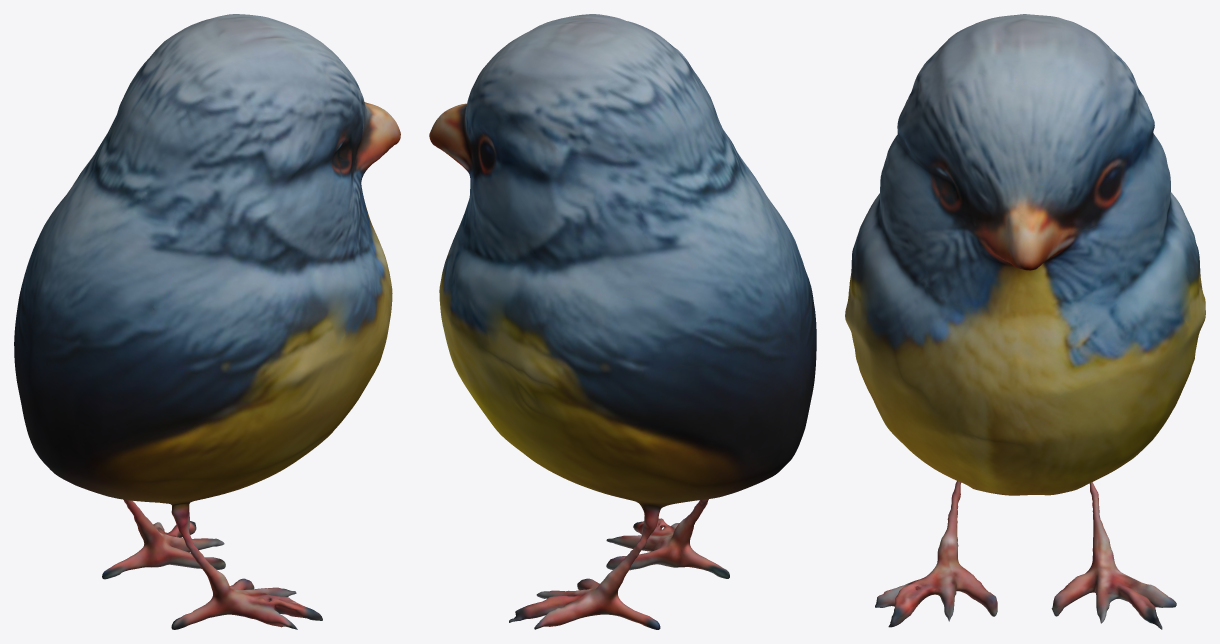
3 renders of one model, left to right at view 1: azimuth 30°, elevation 25°; view 2: azimuth 150°, elevation 25°; view 3: azimuth 270°, elevation 25°, orthographic. The views are drawn at different scales.
Parts seen in each view (by area): view 1: tripo_node_e73f3406-907f-4b67-a370-040629926632; view 2: tripo_node_e73f3406-907f-4b67-a370-040629926632; view 3: tripo_node_e73f3406-907f-4b67-a370-040629926632.
Boxes of the visible parts, bbox=[...] form: tripo_node_e73f3406-907f-4b67-a370-040629926632: bbox=[14, 14, 400, 629]; tripo_node_e73f3406-907f-4b67-a370-040629926632: bbox=[429, 14, 816, 629]; tripo_node_e73f3406-907f-4b67-a370-040629926632: bbox=[845, 14, 1205, 629].
Size of the model in its own units: 0.5598 by 0.7958 by 0.4392.
1 material, 1 textured.
